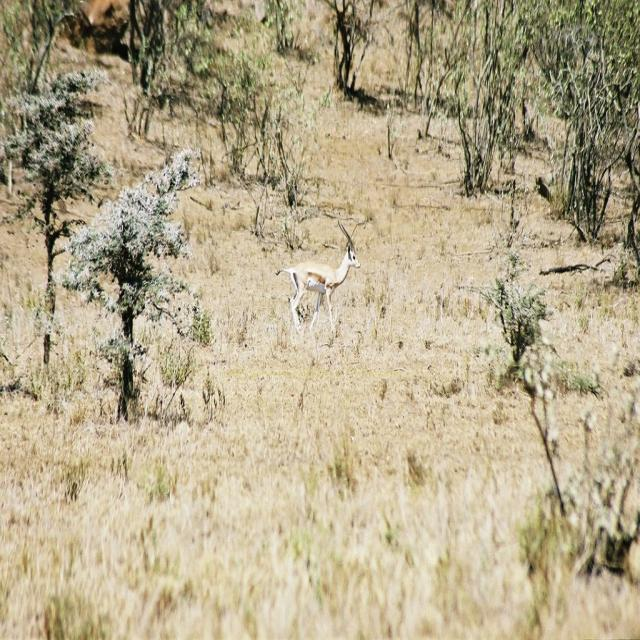Deer: (274, 221, 360, 337)
